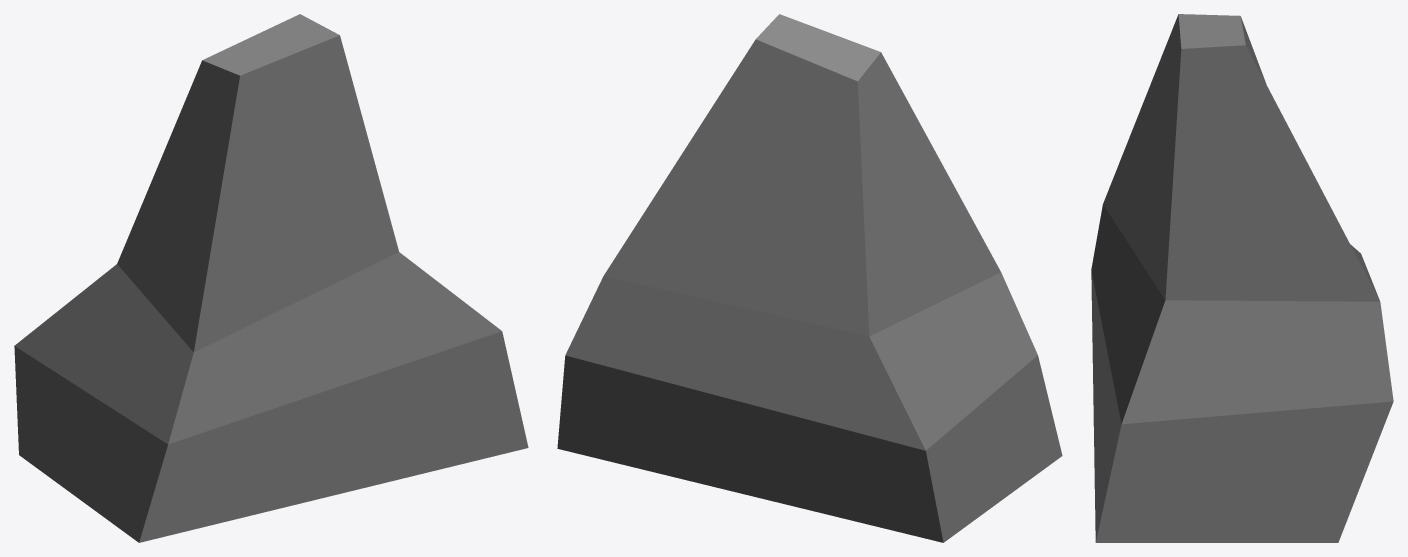
The model's file is rock.fbx.
The picture shows the model from 3 angles, left to right: view 1: azimuth 30°, elevation 25°; view 2: azimuth 150°, elevation 25°; view 3: azimuth 270°, elevation 25°; orthographic projection.
Parts seen in each view (by area): view 1: Rock.002; view 2: Rock.002; view 3: Rock.002.
Boxes of the visible parts, x1,y1,x2,y2 form: Rock.002: (14,14,528,542); Rock.002: (557,14,1062,542); Rock.002: (1091,14,1393,542).
Size of the model in its own units: 2.49 by 3.75 by 3.84.
